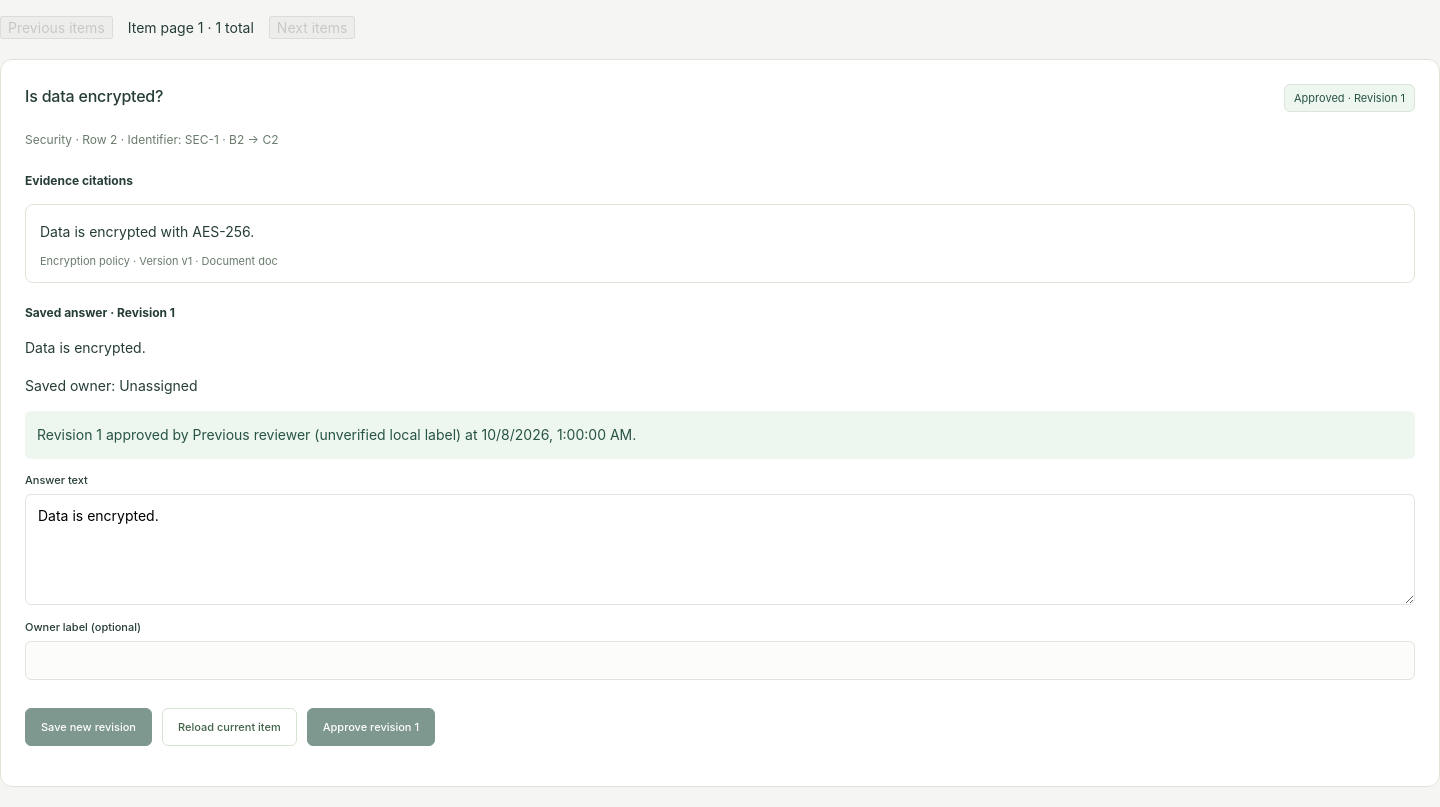
Test case: shows source provenance and citations; editing an approved answer requires revision-specific reapproval
The width and height of the screenshot is (1440, 807).
(page scrolled)
Expected: the heading "Is data encrypted?" is shown, top-left (25, 84), bottom-right (163, 109)
Expected: the text "Data is encrypted with AES-256." is shown, top-left (40, 223), bottom-right (254, 240)
Replace the text in the text box labelled "Answer text" with "Reviewed encryption answer." at (720, 550), box top-left (25, 494), bottom-right (1415, 605)
(page scrolled)
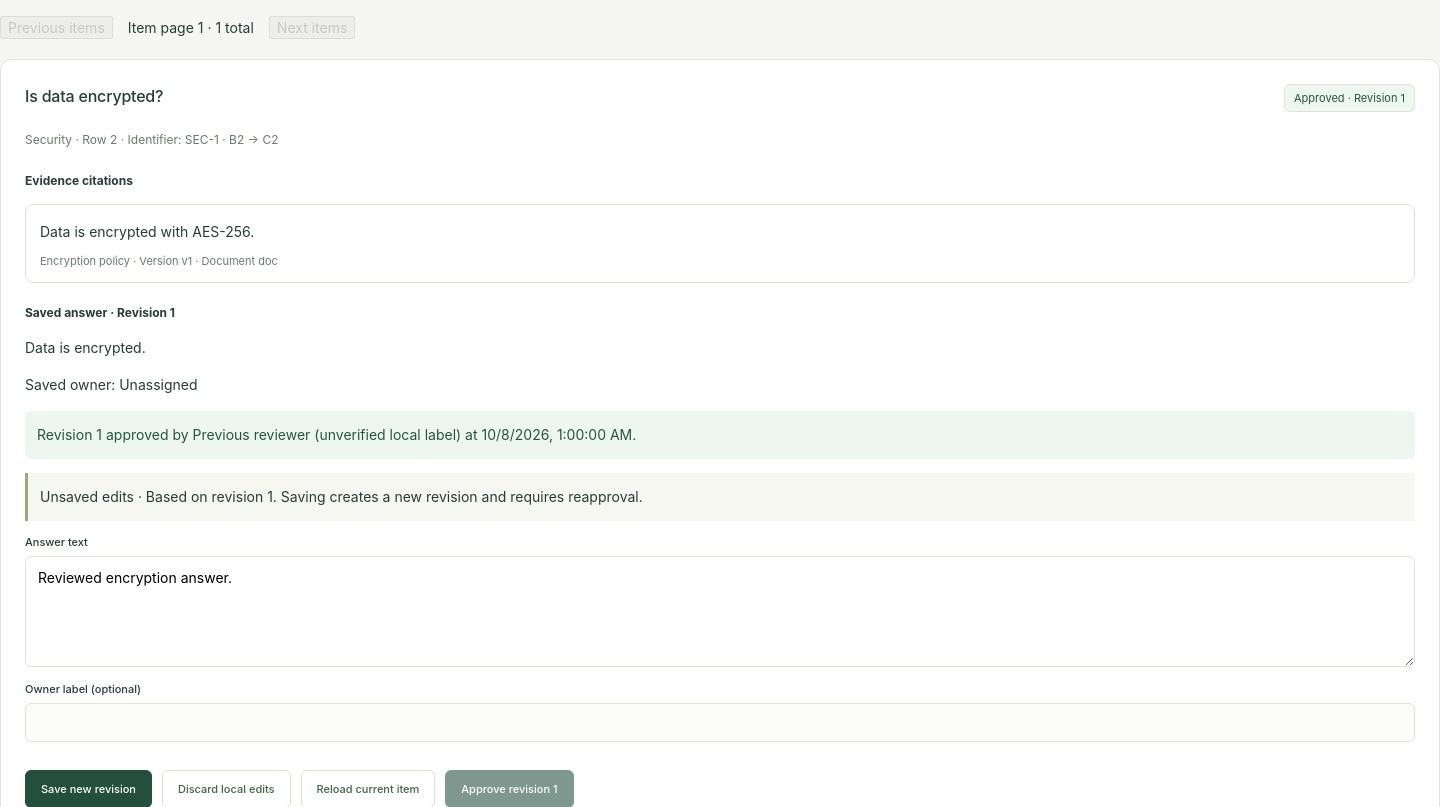
Type "Security team" into the field labelled "Owner label (optional)" at (720, 722), box top-left (25, 703), bottom-right (1415, 742)
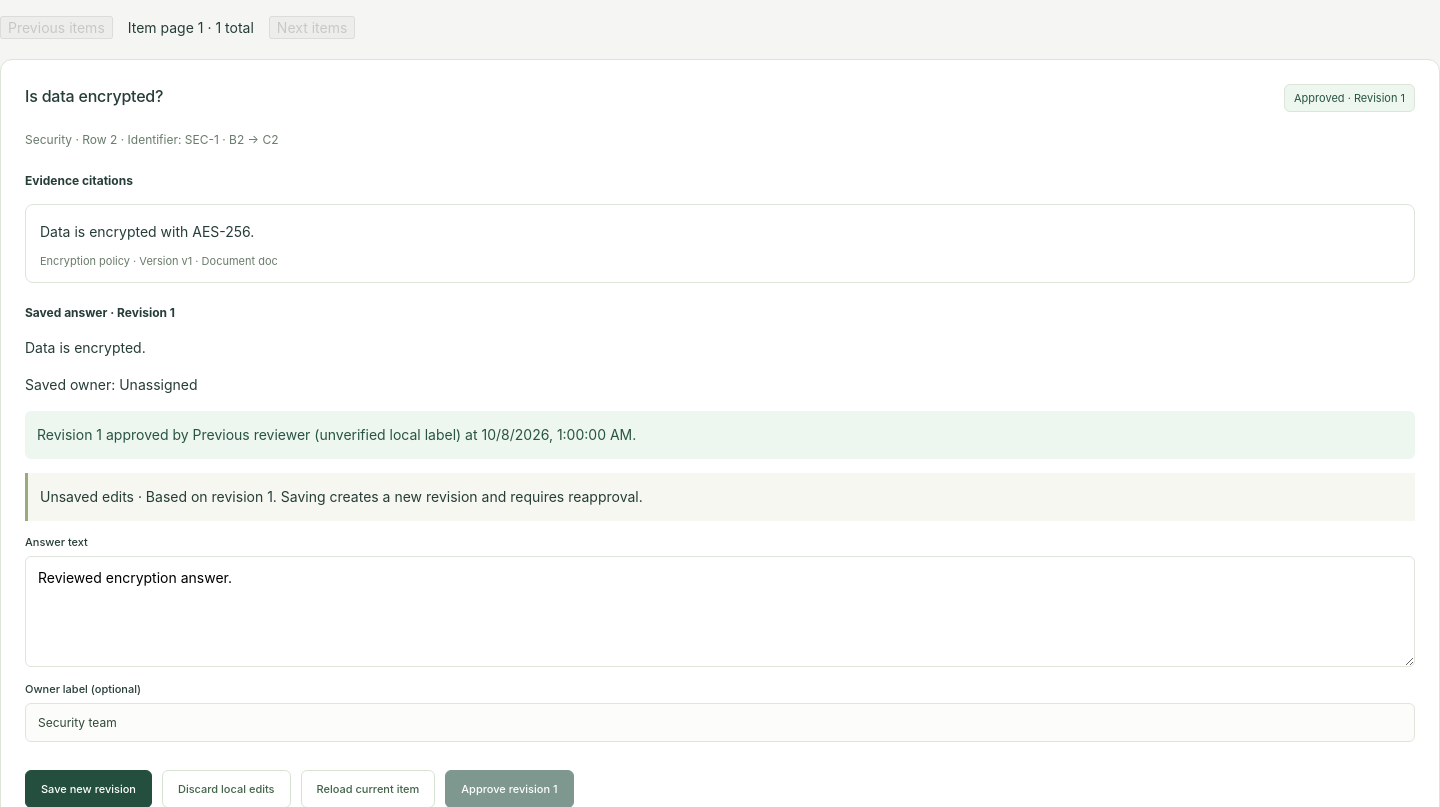
Click the button "Save new revision" at (88, 789), box top-left (25, 770), bottom-right (152, 806)
(page scrolled)
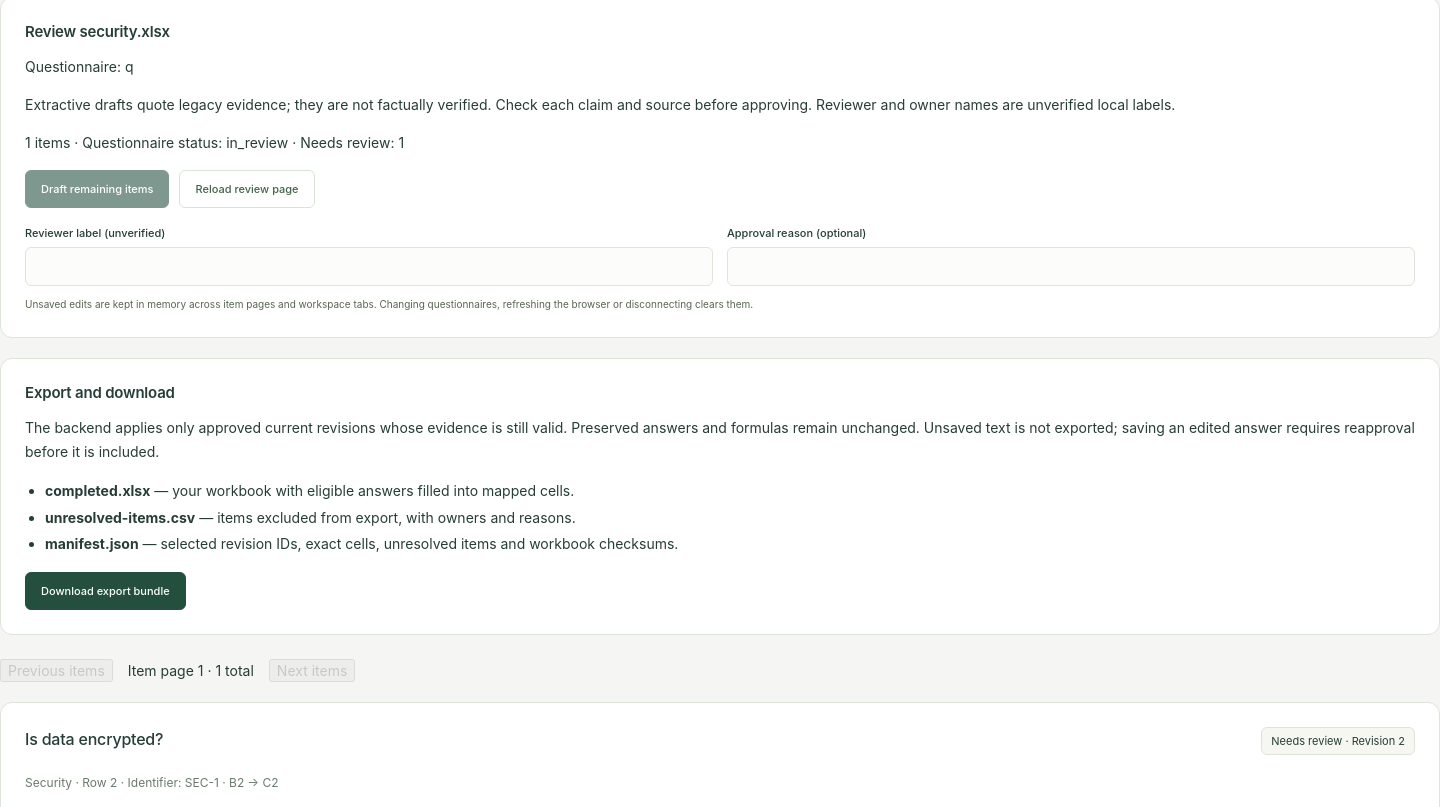
Expected: the text "approved by Previous" is gone
Type "Local reviewer" into the field labelled "Reviewer label (unverified)" at (369, 267), box top-left (25, 247), bottom-right (713, 286)
(page scrolled)
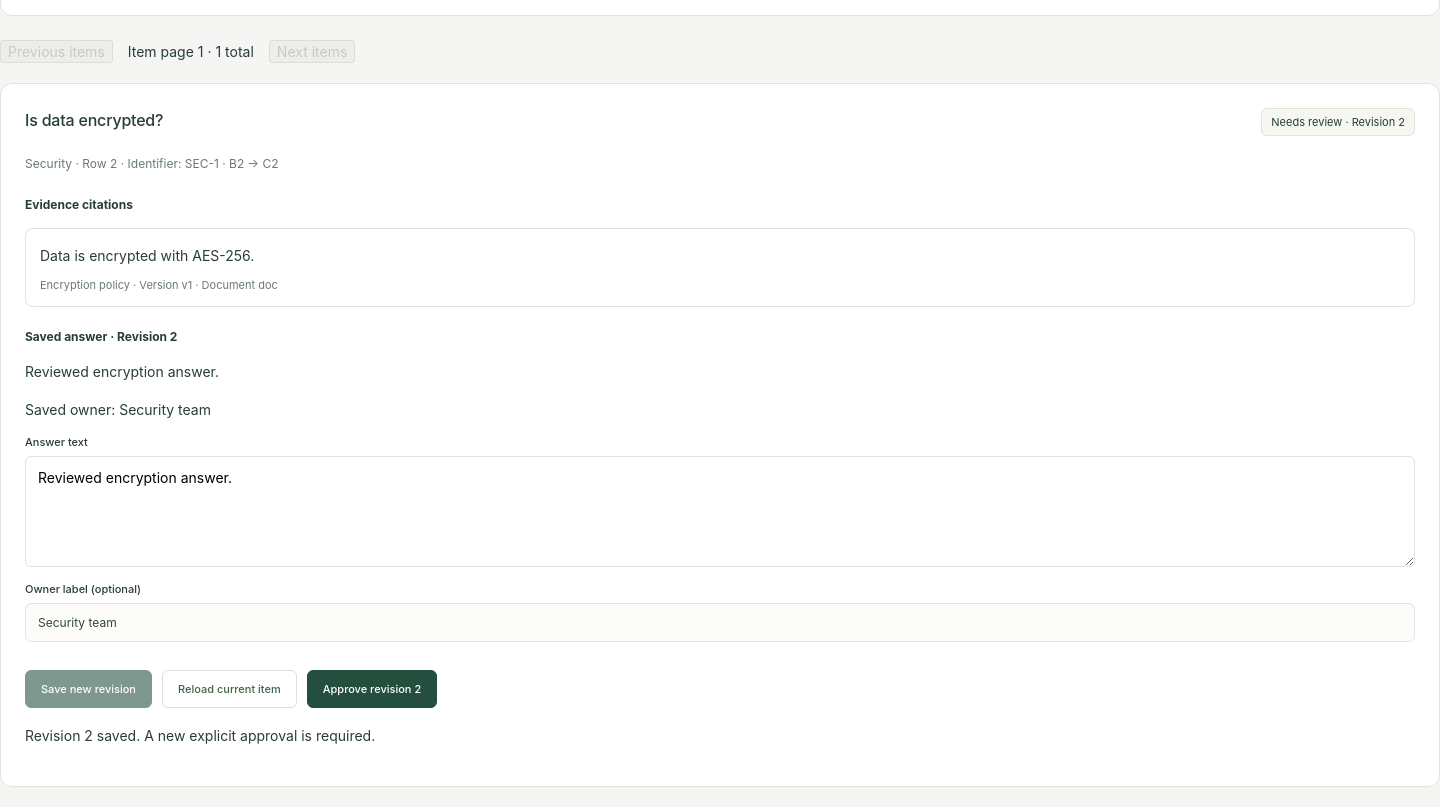
Click the button "Approve revision 2" at (372, 689), box top-left (307, 670), bottom-right (437, 708)
(page scrolled)
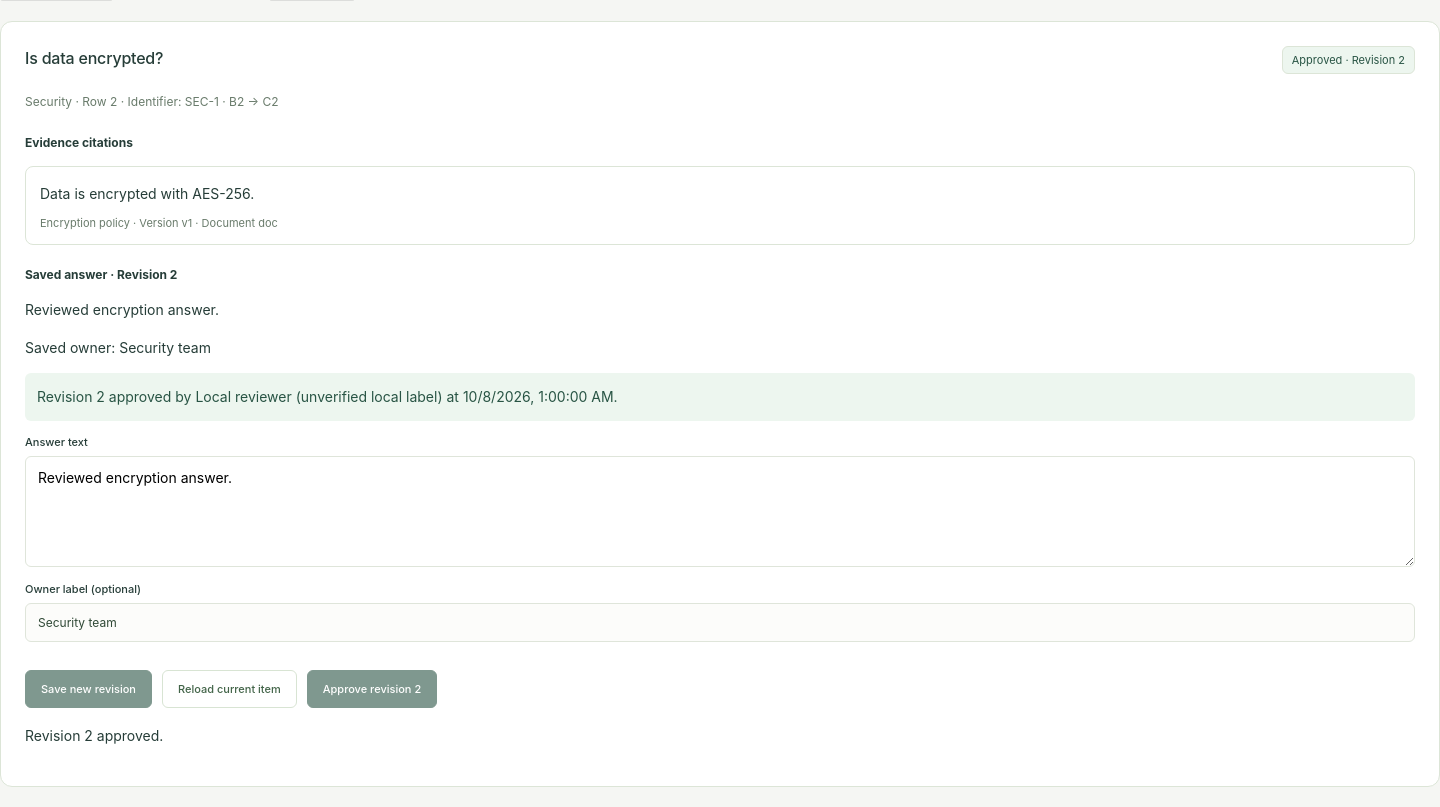
Expected: the text "Revision 2 approved." is shown, top-left (25, 727), bottom-right (163, 744)
